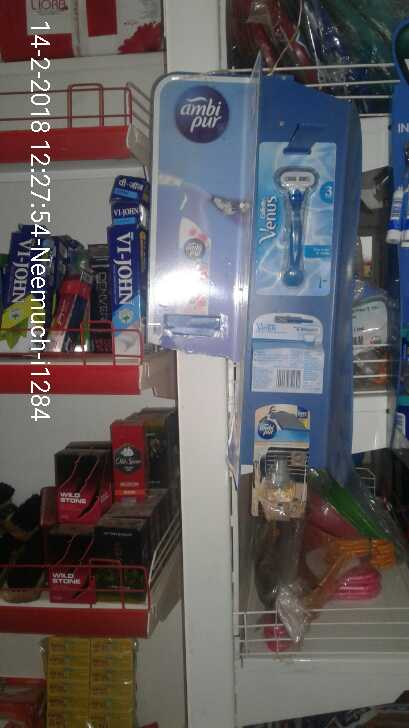beauty: (260, 147, 331, 294)
home: (251, 405, 307, 521)
